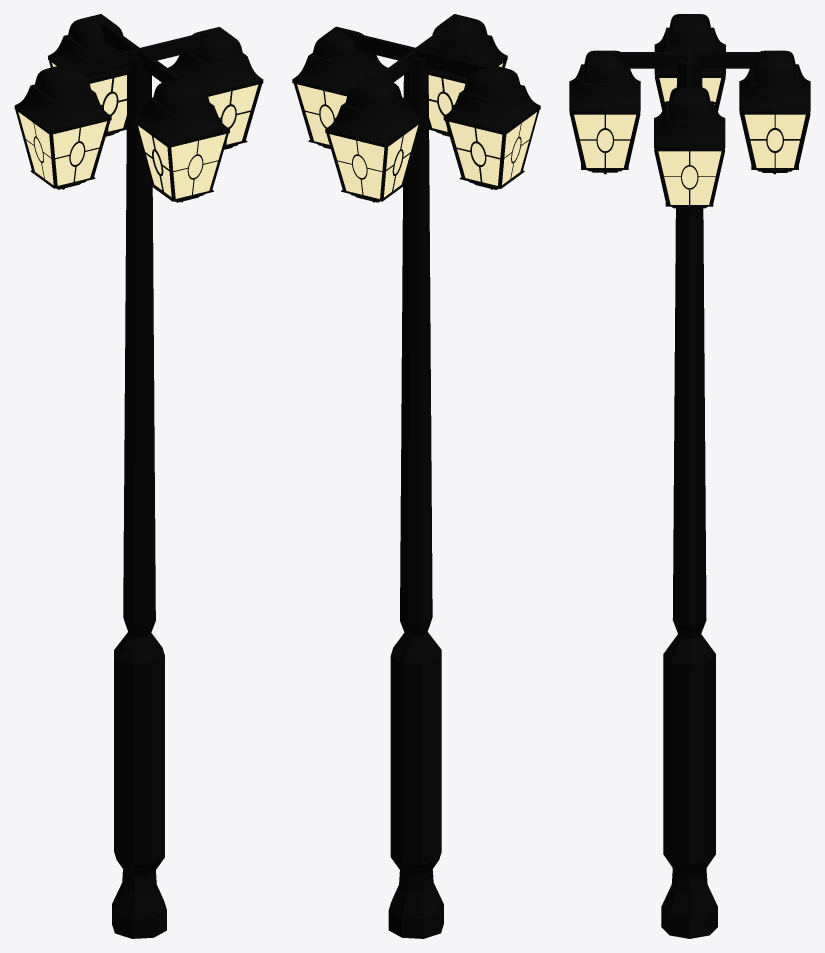
File: forch_town.FBX
3 views of the same model, side by side, from view 1: azimuth 30°, elevation 25°; view 2: azimuth 150°, elevation 25°; view 3: azimuth 270°, elevation 25° (orthographic).
Visible parts, largest first — view 1: Lamp_28; view 2: Lamp_28; view 3: Lamp_28.
Part boxes in pixels (x1=…): Lamp_28: x1=14, y1=14, x2=263, y2=938; Lamp_28: x1=292, y1=14, x2=540, y2=938; Lamp_28: x1=569, y1=14, x2=810, y2=938.
Size of the model in its own units: 391 by 1538 by 384.
